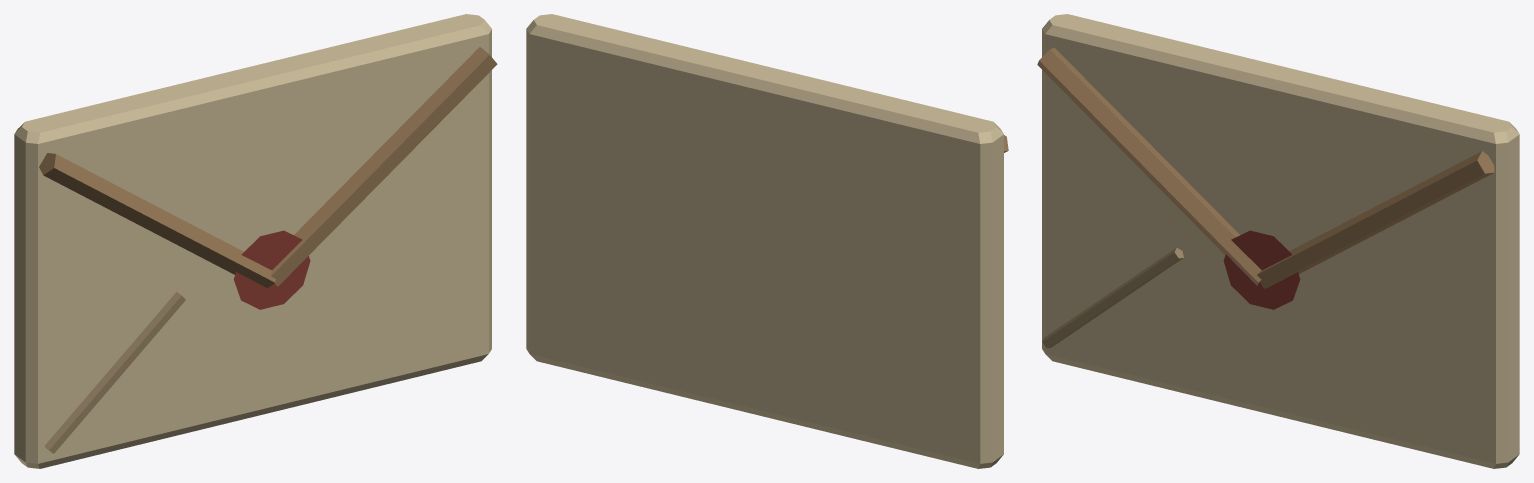
Rendered from round_letter.glb.
3 views of the same model, side by side, from view 1: azimuth 30°, elevation 25°; view 2: azimuth 150°, elevation 25°; view 3: azimuth 330°, elevation 25° (orthographic).
Parts seen in each view (by area): view 1: round_letter; view 2: round_letter; view 3: round_letter.
Boxes of the visible parts, x1=… form: round_letter: x1=14, y1=14, x2=497, y2=468; round_letter: x1=526, y1=14, x2=1008, y2=468; round_letter: x1=1037, y1=14, x2=1519, y2=468.
Size of the model in its own units: 0.328 by 0.226 by 0.0395.
